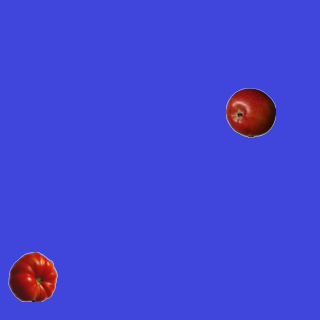Apple Braeburn: (225, 87, 275, 137)
Tomato 3: (7, 251, 57, 301)
